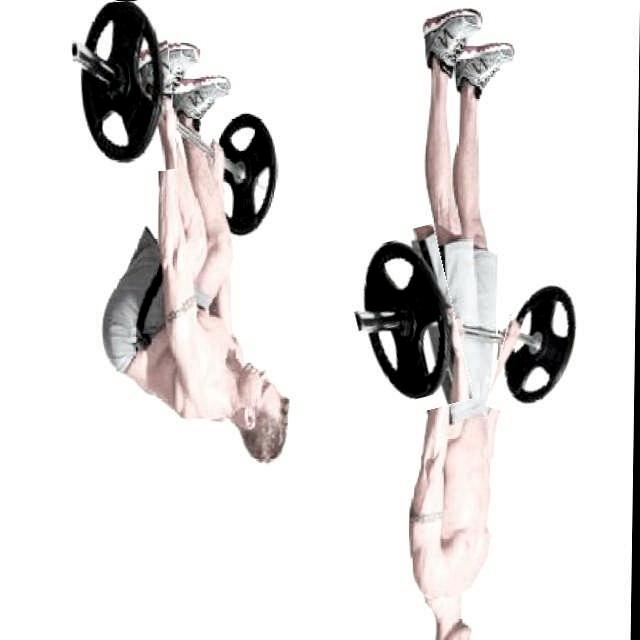barbell: (349, 228, 467, 417), (70, 1, 176, 176), (495, 277, 589, 422)
